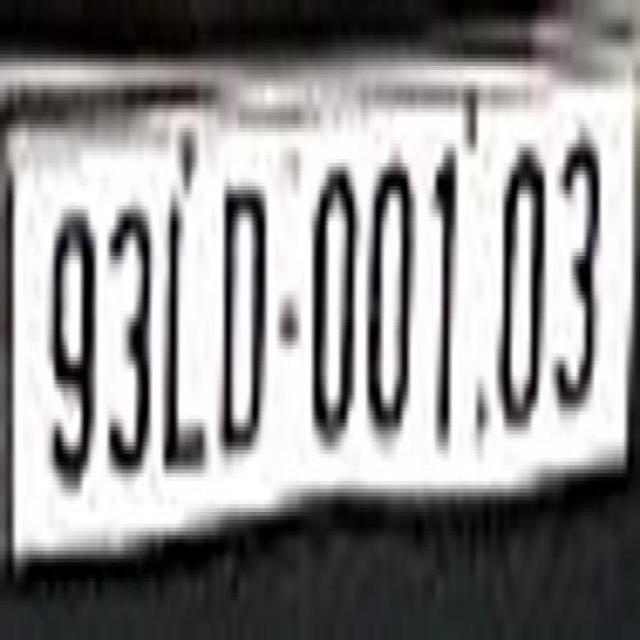0: (364, 128, 415, 442), (310, 140, 360, 446), (496, 124, 547, 423)
1: (427, 120, 462, 450)
3: (552, 124, 602, 423), (105, 186, 154, 473)
9: (42, 194, 98, 493)
D: (218, 155, 268, 454)
L: (160, 182, 211, 481)
